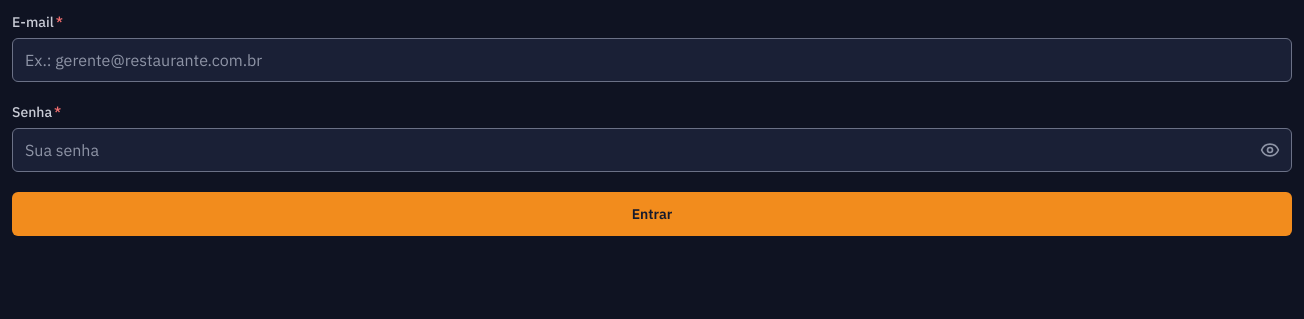
Test case: LoginForm › erro que não é de credencial (limite/rede): aviso geral, sem culpar a senha
The width and height of the screenshot is (1304, 319).
Type "dono@restaurante.com.br" into the field labelled "E-mail*" at (652, 60), box [12,38,1292,82]
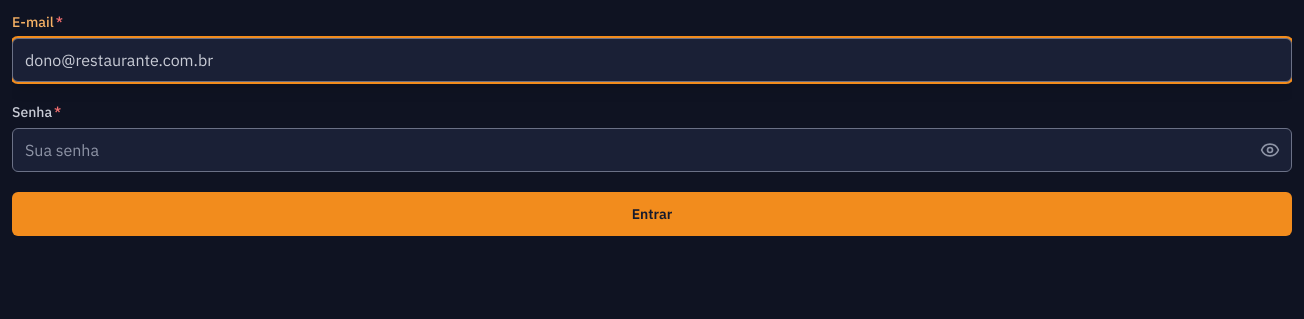
Type "Restaurante2026" into the password field labelled "Senha*" at (652, 150), box [12,128,1292,172]
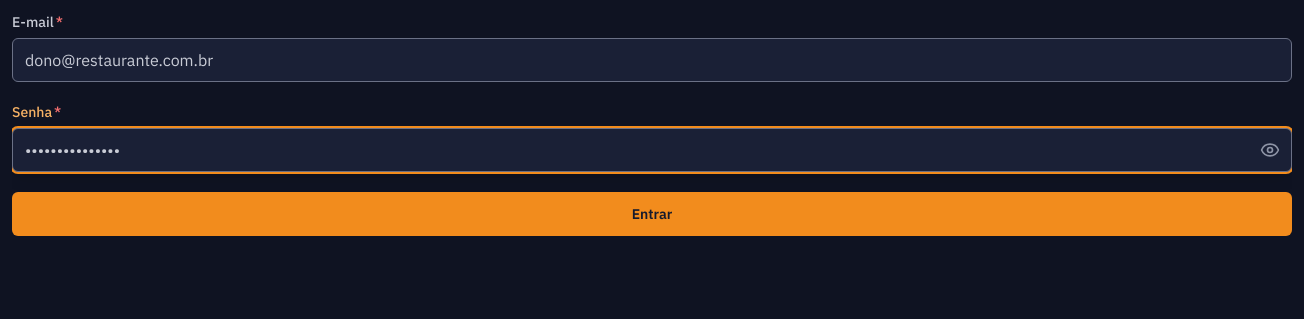
Click the button "Entrar" at (652, 214), box [12,192,1292,236]
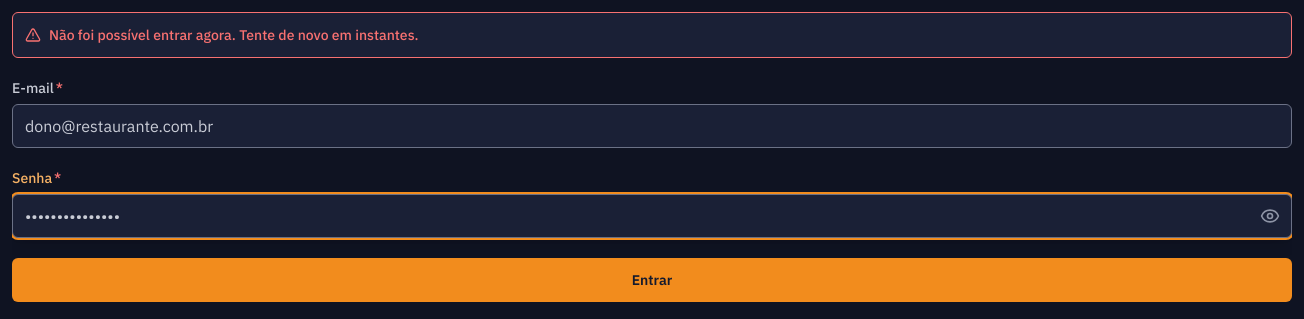
Now the message shows "Não foi possível entrar agora", box [49,26,418,44]
